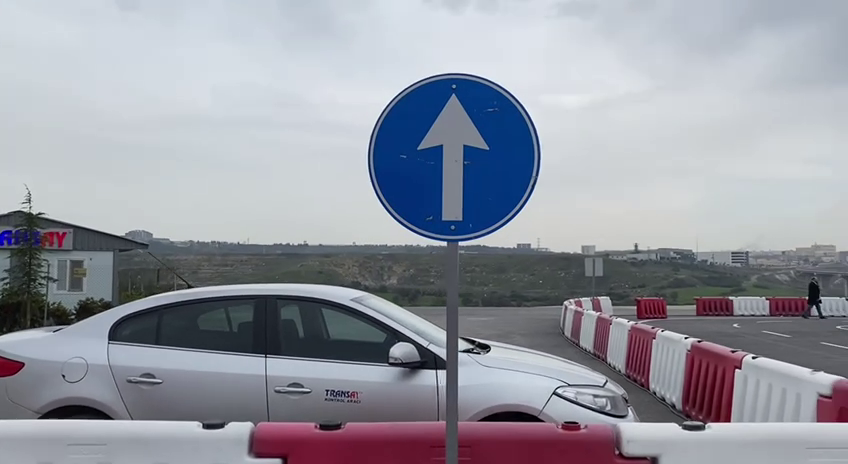forward: (362, 67, 544, 245)
